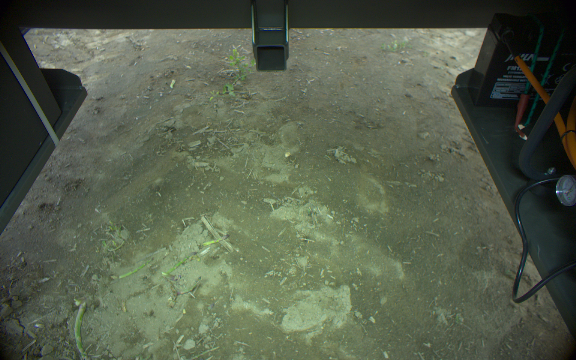aspa: (161, 250, 198, 276), (72, 301, 88, 360), (119, 258, 153, 280), (202, 232, 229, 247)
